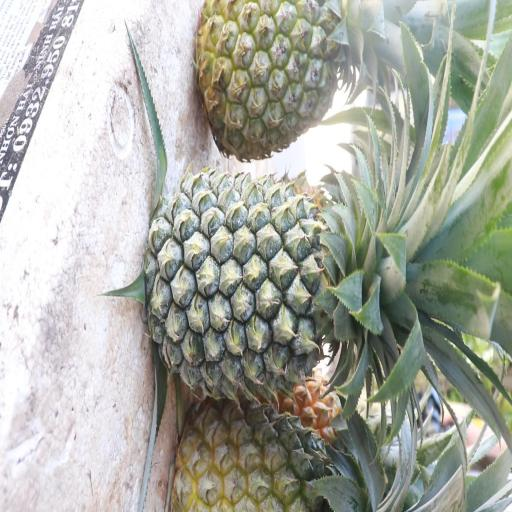------------------------------: (199, 0, 352, 146), (178, 393, 365, 512)
